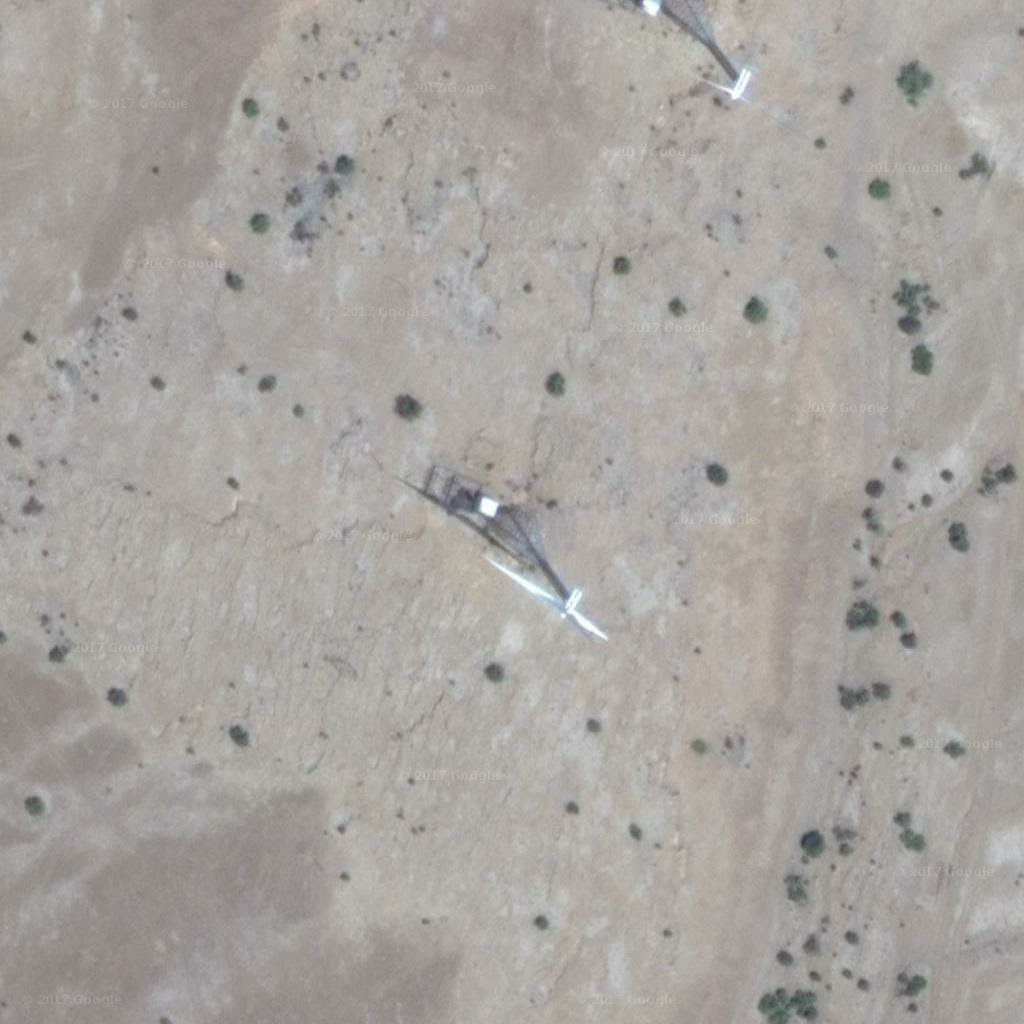Windmill: (392, 456, 558, 594)
